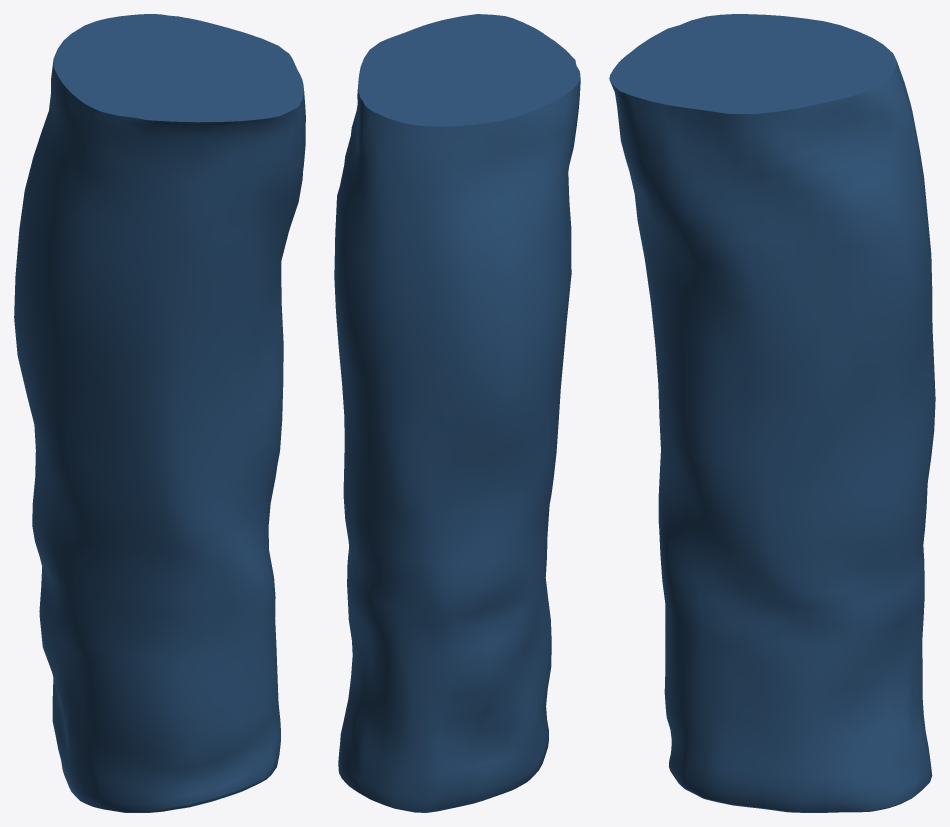
Rendered from calf_r.fbx.
3 renders of one model, left to right at view 1: azimuth 30°, elevation 25°; view 2: azimuth 150°, elevation 25°; view 3: azimuth 270°, elevation 25°, orthographic. The views are drawn at different scales.
Parts seen in each view (by area): view 1: calf_r-1; view 2: calf_r-1; view 3: calf_r-1.
Part boxes in pixels (x1,y1,x2,y2): calf_r-1: (14, 14, 305, 812); calf_r-1: (334, 14, 580, 812); calf_r-1: (609, 14, 935, 812).
Size of the model in its own units: 0.3528 by 0.1438 by 0.1116.
